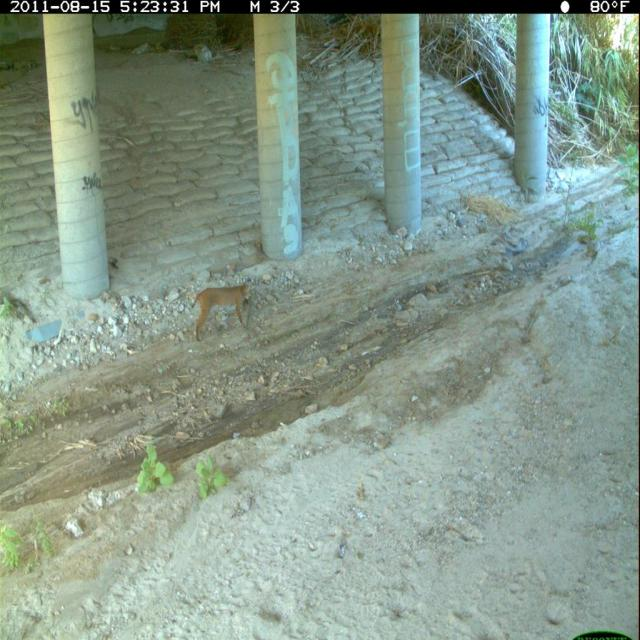bobcat: (188, 275, 257, 348)
rabbit: (243, 292, 257, 335)
